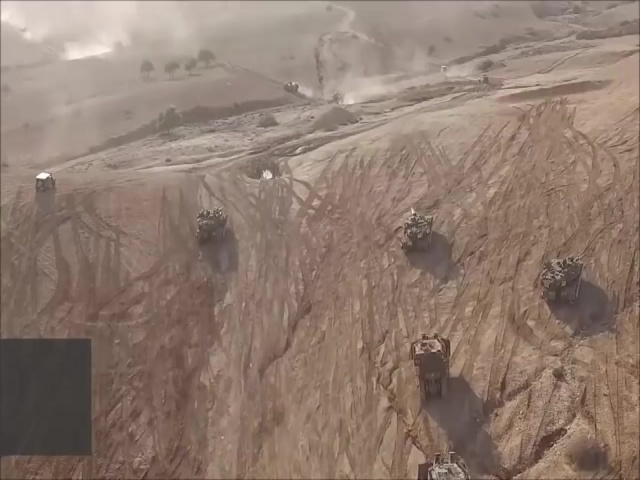vehicle: (411, 333, 453, 401), (539, 254, 586, 304), (400, 212, 435, 255), (194, 206, 229, 247), (34, 171, 57, 192)
